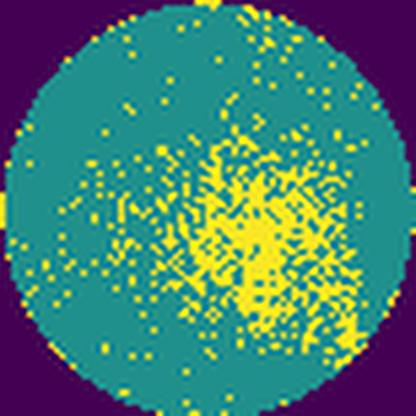Loc: (166, 132, 366, 352)
